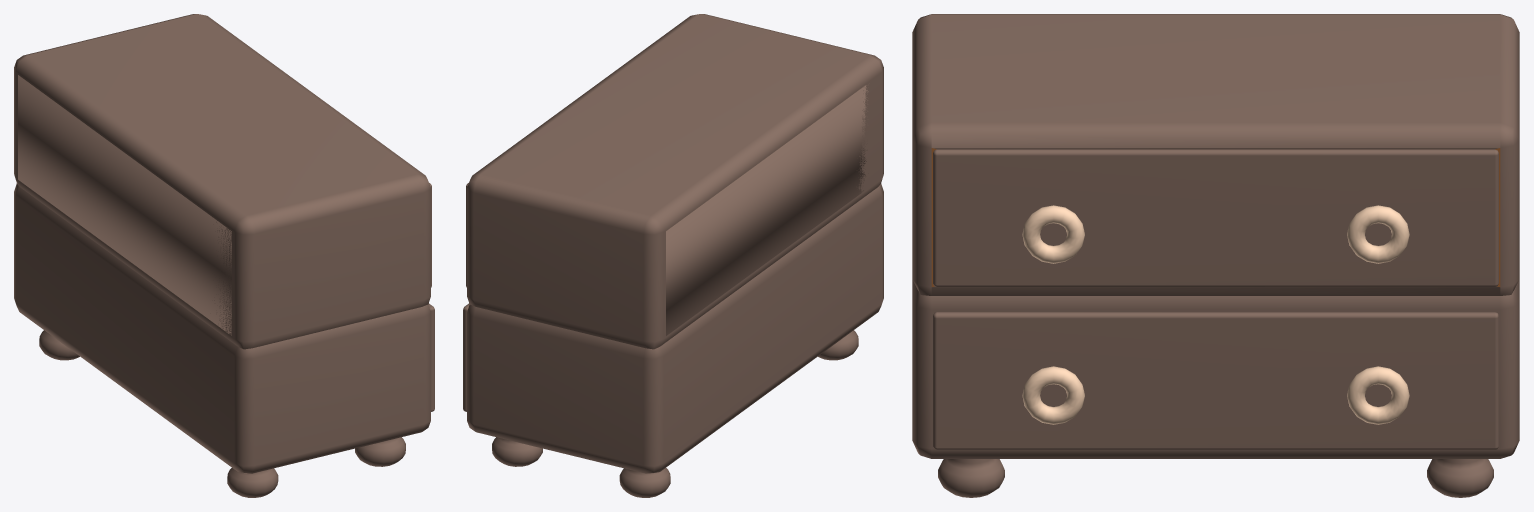
The model's file is BedroomDrawer.fbx.
3 views of the same model, side by side, from view 1: azimuth 30°, elevation 25°; view 2: azimuth 150°, elevation 25°; view 3: azimuth 270°, elevation 25° (orthographic). The views are drawn at different scales.
Visible parts, largest first — view 1: BedroomCabinet; view 2: BedroomCabinet; view 3: BedroomCabinet, BedroomCabinet.001.
Part boxes in pixels (bbox=[...]): BedroomCabinet: bbox=[14, 14, 434, 497]; BedroomCabinet: bbox=[463, 14, 883, 497]; BedroomCabinet: bbox=[912, 14, 1519, 497]; BedroomCabinet.001: bbox=[933, 149, 1498, 286].
Size of the model in its own units: 103 by 129 by 186.
